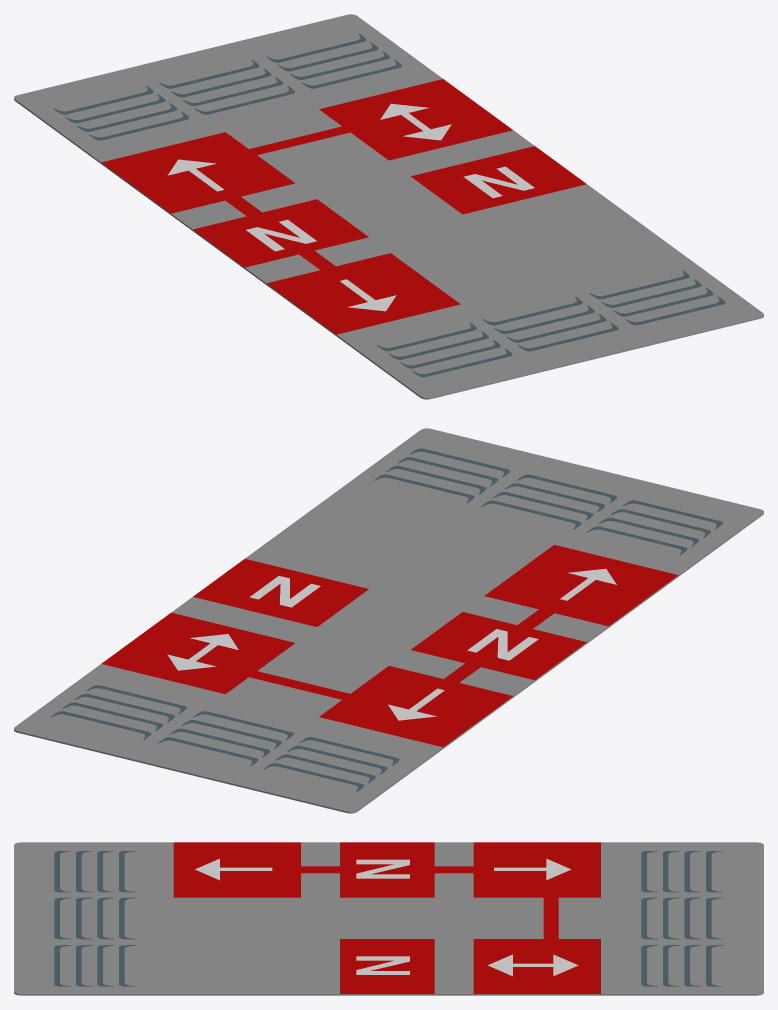
The picture shows the model from 3 angles, top to bottom: view 1: azimuth 30°, elevation 25°; view 2: azimuth 150°, elevation 25°; view 3: azimuth 270°, elevation 25°; orthographic projection. The views are drawn at different scales.
Visible parts, largest first — view 1: world; view 2: world; view 3: world.
Part boxes in pixels (x1=…): world: x1=14, y1=14, x2=763, y2=399; world: x1=14, y1=428, x2=763, y2=813; world: x1=14, y1=842, x2=763, y2=995.
Bounding box in the file's own units: 0.022 × 0.0001 × 0.046.
